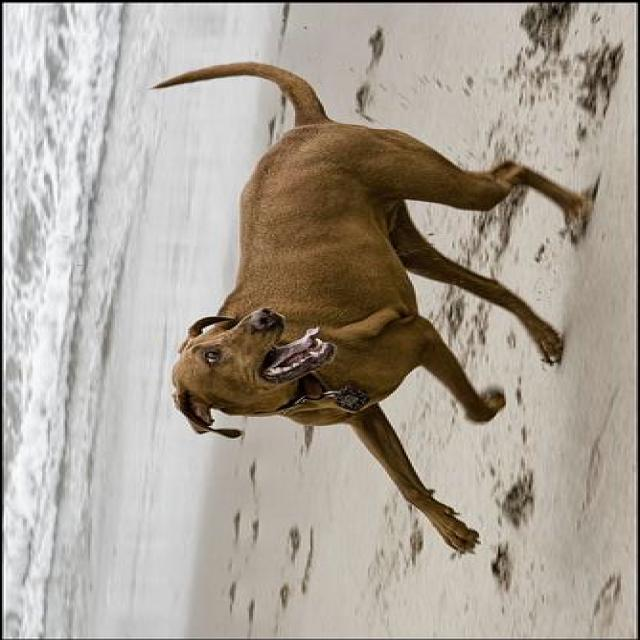rhodesian_ridgeback: (150, 58, 598, 554)
